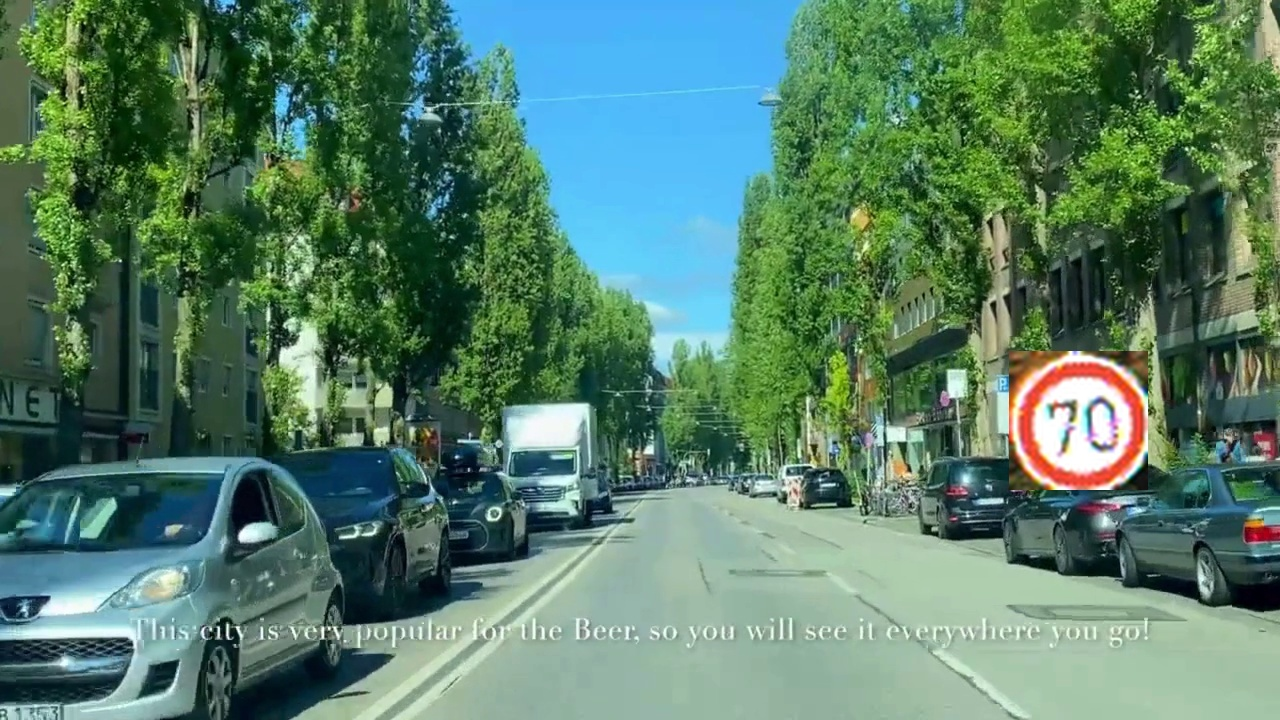Speed 70: (1009, 351, 1148, 490)
